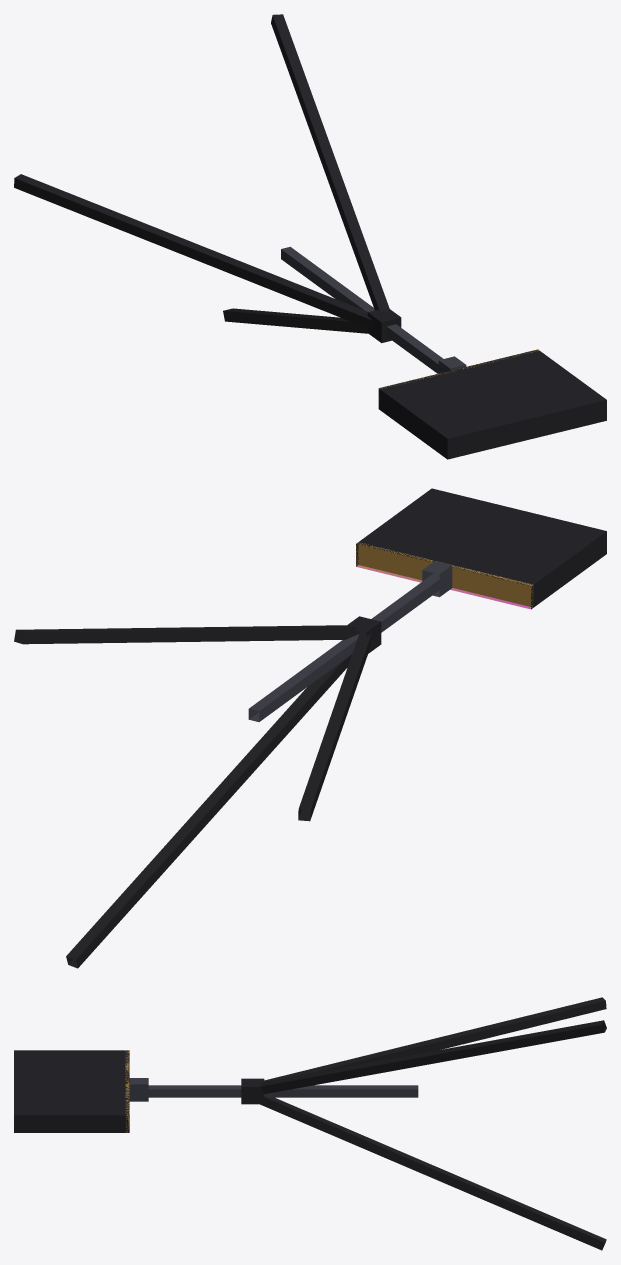
File: b_flood_light.obj
The picture shows the model from 3 angles, top to bottom: view 1: azimuth 30°, elevation 25°; view 2: azimuth 150°, elevation 25°; view 3: azimuth 270°, elevation 25°; orthographic projection. The views are drawn at different scales.
Size of the model in its own units: 0.6737 by 0.7064 by 1.54.
1 material, 1 textured.
